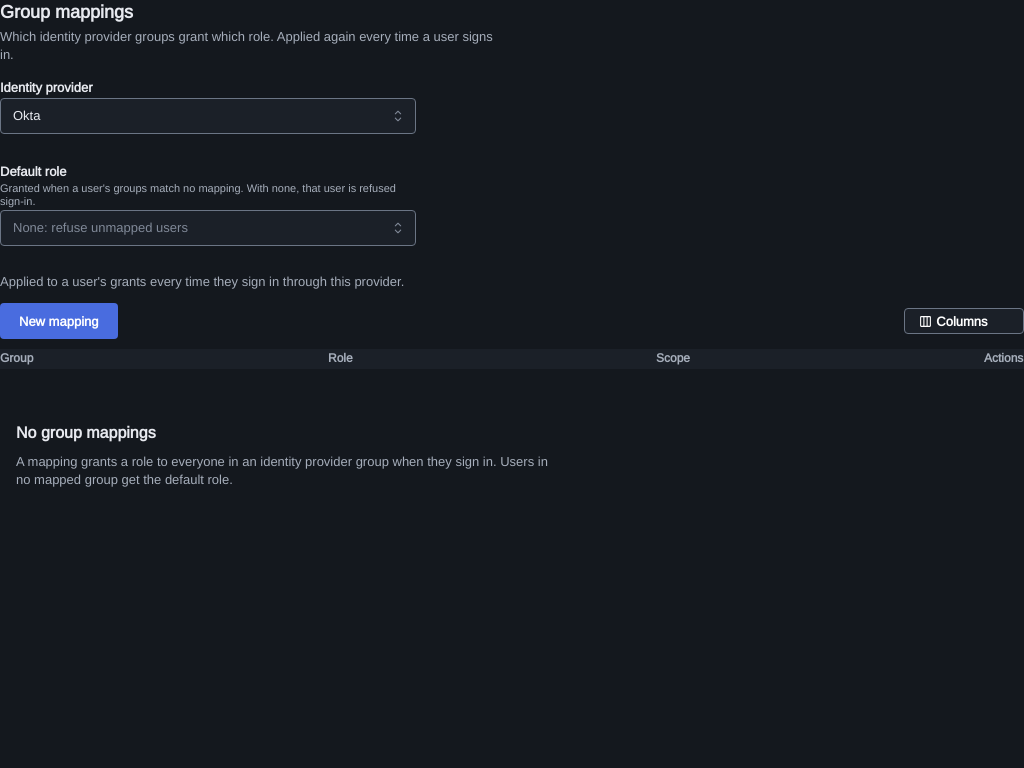
Test: GroupMappingPanel › asks for the group and the role on submit, focusing the first missing one
Click the button "New mapping".
click(59, 321)  # box [0,303,118,339]
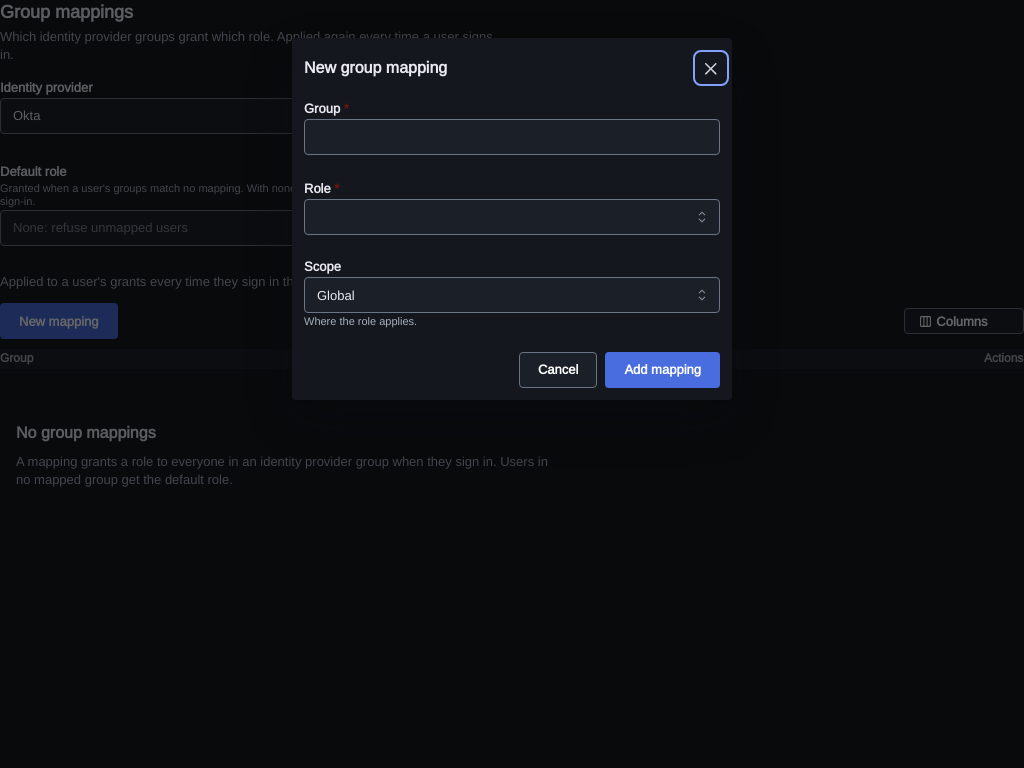
Click the button "Add mapping".
click(663, 370)  # box [605,352,720,388]
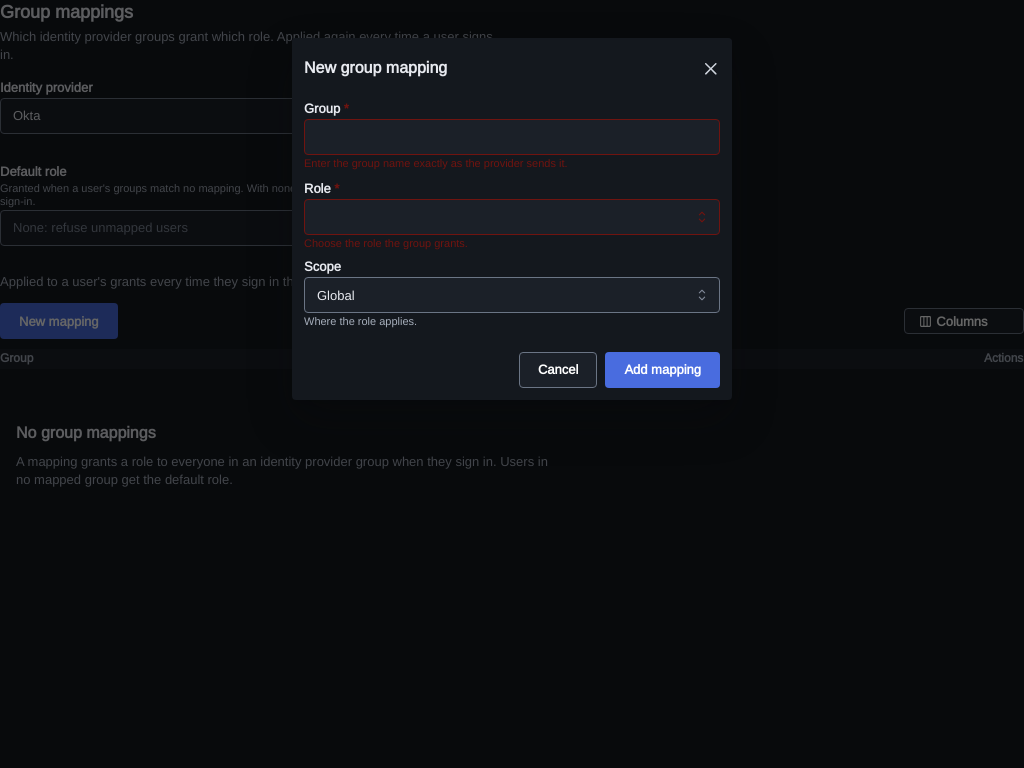
expect the text "Enter the group name exactly as the provider sends it." is shown: met, box [304,156,568,170]
expect the text "Choose the role the group grants." is shown: met, box [304,236,468,250]
